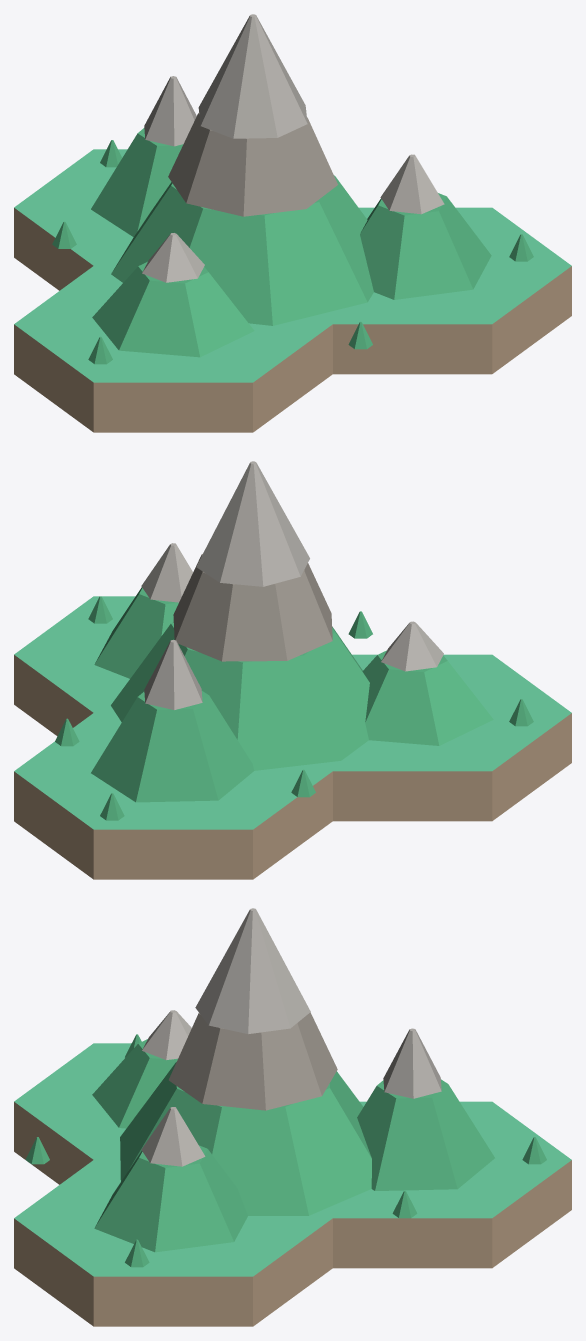
File: mountain-large.glb
3 renders of one model, top to bottom at view 1: azimuth 30°, elevation 25°; view 2: azimuth 150°, elevation 25°; view 3: azimuth 270°, elevation 25°, orthographic.
Visible parts, largest first — view 1: base2, base1, giant_slope, giant_cliff, flank2_slope, flank1_slope, base0, giant_rock, flank0_slope, flank0_rock, flank1_rock, flank2_rock; view 2: base0, base2, giant_slope, flank0_slope, giant_cliff, base1, flank2_slope, giant_rock, flank1_slope, flank0_rock, flank2_rock, flank1_rock; view 3: base1, base0, giant_slope, giant_cliff, flank1_slope, flank0_slope, base2, giant_rock, flank2_slope, flank0_rock, flank1_rock, flank2_rock.
Part boxes in pixels (<box>): base2: <box>14,266,332,432</box>; base1: <box>320,207,571,374</box>; giant_slope: <box>111,175,373,325</box>; giant_cliff: <box>168,112,337,216</box>; flank2_slope: <box>92,261,254,357</box>; flank1_slope: <box>360,193,491,299</box>; base0: <box>14,149,133,290</box>; giant_rock: <box>198,14,307,138</box>; flank0_slope: <box>91,128,183,236</box>; flank0_rock: <box>144,76,196,146</box>; flank1_rock: <box>380,154,444,214</box>; flank2_rock: <box>142,233,204,282</box>; base0: <box>14,713,332,879</box>; base2: <box>322,654,571,821</box>; giant_slope: <box>111,622,369,770</box>; flank0_slope: <box>91,691,254,802</box>; giant_cliff: <box>173,554,332,661</box>; base1: <box>14,596,135,736</box>; flank2_slope: <box>362,650,493,745</box>; giant_rock: <box>196,461,309,586</box>; flank1_slope: <box>94,587,178,678</box>; flank0_rock: <box>144,639,202,709</box>; flank2_rock: <box>381,621,443,671</box>; flank1_rock: <box>141,543,192,602</box>; base1: <box>14,1160,332,1326</box>; base0: <box>322,1101,571,1268</box>; giant_slope: <box>120,1062,371,1215</box>; giant_cliff: <box>169,1012,337,1110</box>; flank1_slope: <box>94,1145,247,1252</box>; flank0_slope: <box>357,1079,494,1190</box>; base2: <box>14,1043,131,1184</box>; giant_rock: <box>195,908,310,1034</box>; flank2_slope: <box>92,1039,177,1128</box>; flank0_rock: <box>383,1028,441,1098</box>; flank1_rock: <box>141,1107,205,1166</box>; flank2_rock: <box>142,1010,191,1060</box>.
Bounding box in the file's own units: 2 × 1.2 × 2.02.
